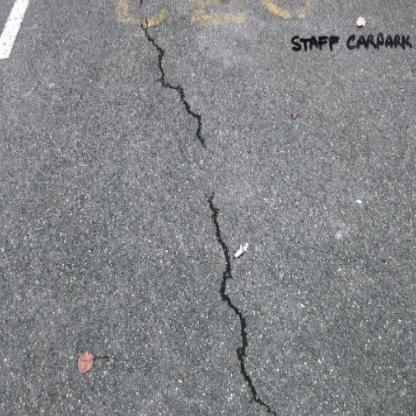Cracks: (204, 189, 282, 416), (134, 0, 213, 155)
